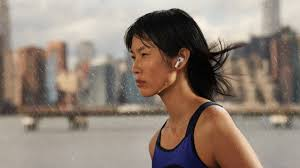earphone: (175, 48, 190, 70)
